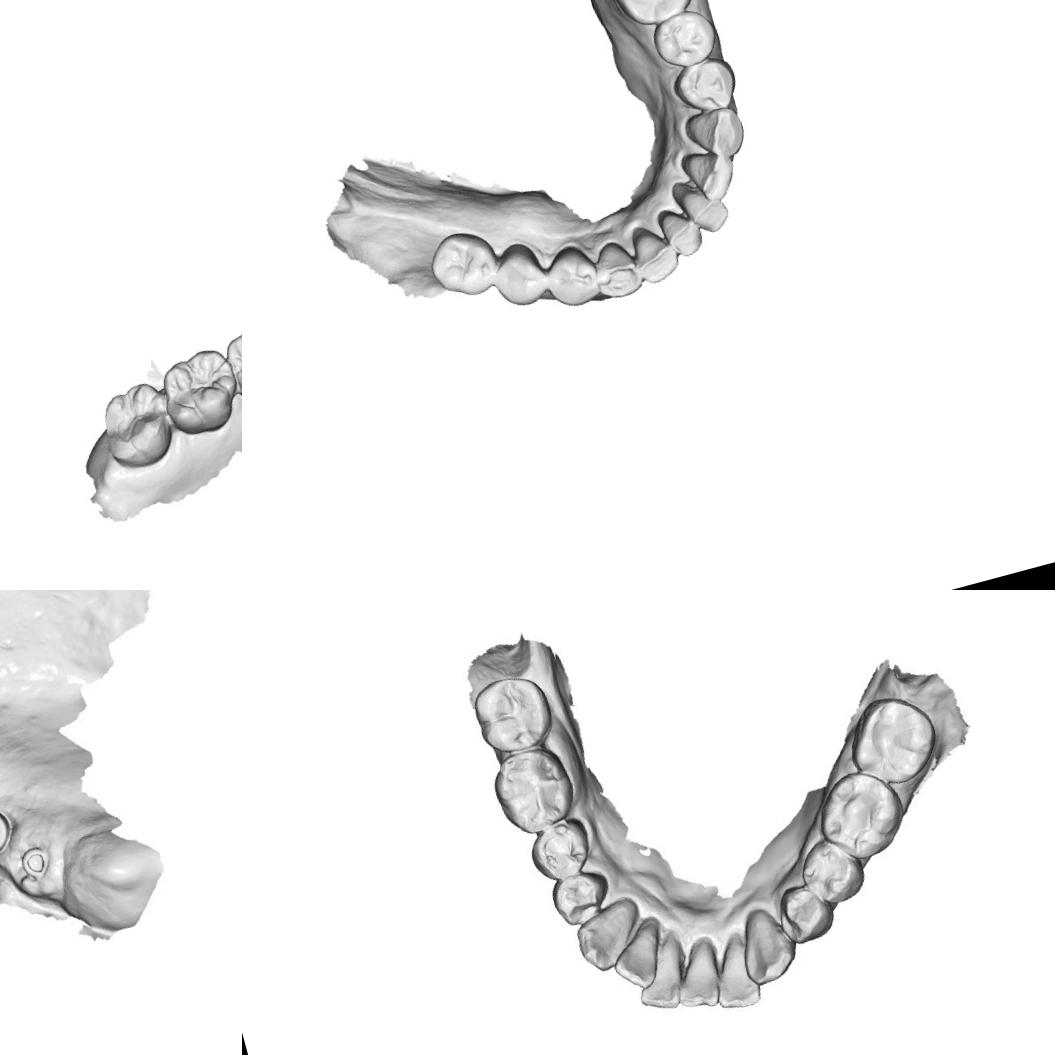canine: (728, 897, 802, 990), (569, 896, 644, 976), (679, 98, 750, 167), (586, 234, 649, 304)
implant: (0, 802, 16, 856)
incisor: (626, 924, 688, 1008), (676, 142, 746, 212), (666, 931, 725, 1010), (668, 171, 733, 242), (610, 915, 668, 991), (626, 216, 686, 288), (707, 932, 761, 1007), (651, 200, 709, 264)
molar: (90, 376, 182, 477), (151, 341, 242, 443), (844, 689, 939, 784), (816, 769, 902, 860), (466, 669, 554, 755), (491, 740, 572, 830), (422, 222, 506, 306), (595, 0, 700, 32)
premolar: (645, 3, 725, 74), (484, 236, 552, 314), (666, 52, 742, 120), (536, 242, 602, 315), (524, 817, 592, 885), (799, 836, 863, 904), (548, 867, 610, 922), (776, 883, 831, 940), (221, 324, 242, 405)
